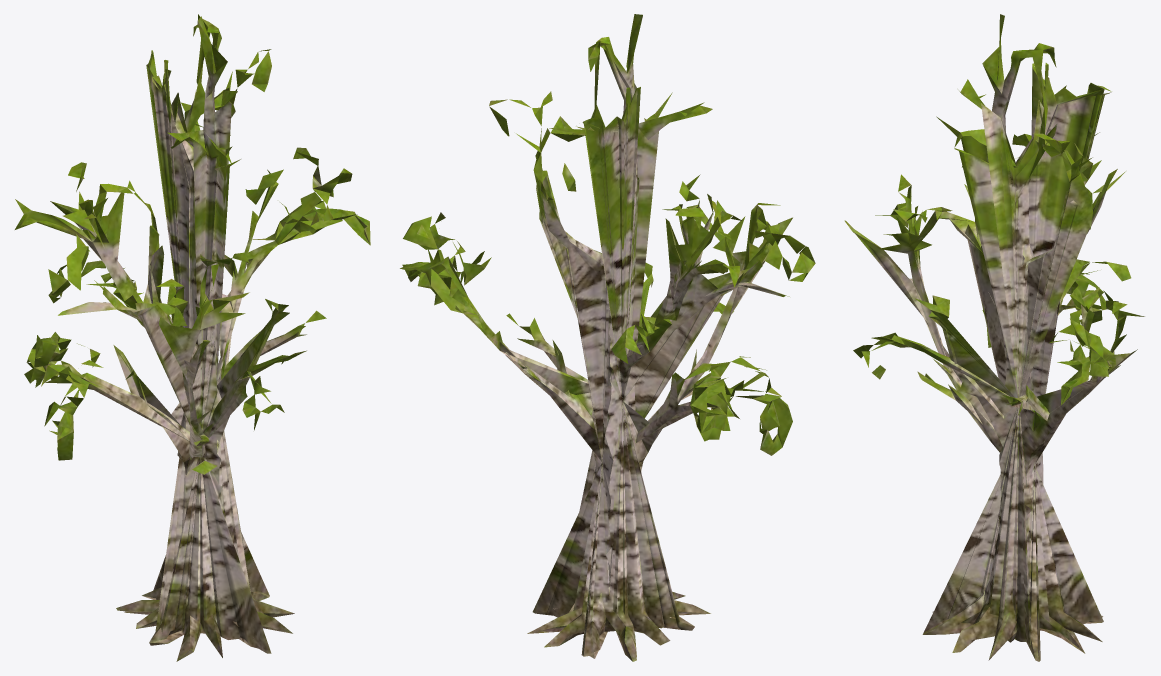
The model's file is birch_lite.glb.
3 views of the same model, side by side, from view 1: azimuth 30°, elevation 25°; view 2: azimuth 150°, elevation 25°; view 3: azimuth 270°, elevation 25° (orthographic).
Visible parts, largest first — view 1: geometry_0; view 2: geometry_0; view 3: geometry_0.
Boxes of the visible parts, x1=… form: geometry_0: x1=15, y1=14, x2=370, y2=661; geometry_0: x1=400, y1=14, x2=815, y2=661; geometry_0: x1=844, y1=14, x2=1144, y2=661.
Size of the model in its own units: 1.15 by 1.84 by 0.8335.
Materials: 1 (1 with a texture image).
